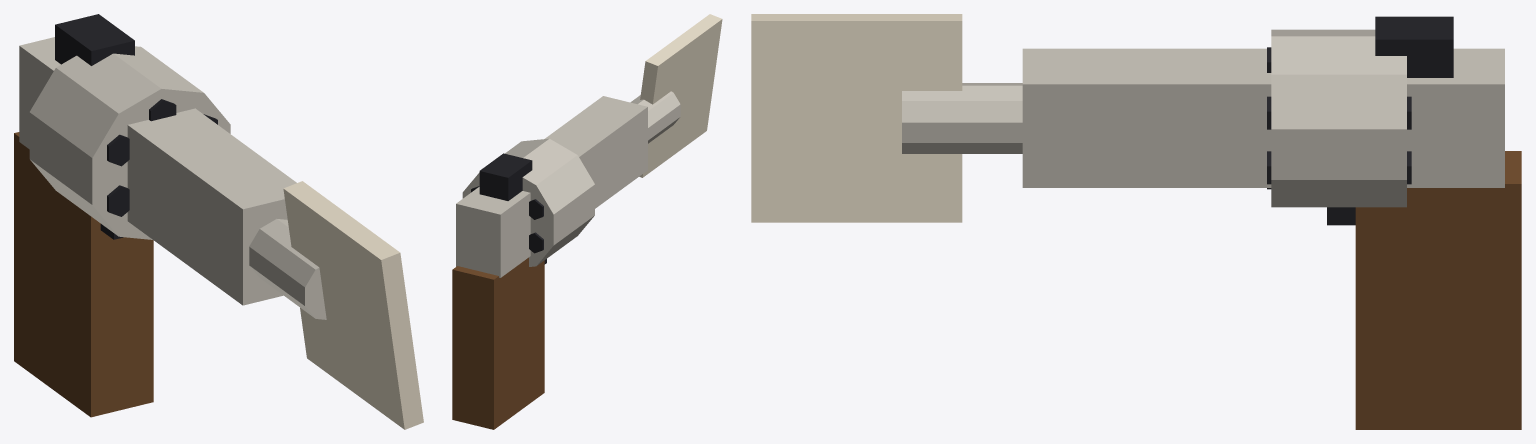
The model's file is hero_gag_gun.glb.
3 views of the same model, side by side, from view 1: azimuth 30°, elevation 25°; view 2: azimuth 150°, elevation 25°; view 3: azimuth 270°, elevation 25° (orthographic). The views are drawn at different scales.
Parts seen in each view (by area): view 1: hero_gag_gun; view 2: hero_gag_gun; view 3: hero_gag_gun.
Part boxes in pixels (x1,y1,x2,y2): hero_gag_gun: [14, 14, 423, 429]; hero_gag_gun: [452, 14, 722, 429]; hero_gag_gun: [751, 14, 1521, 429].
Bounding box in the file's own units: 0.0571 × 0.1432 × 0.2555.
